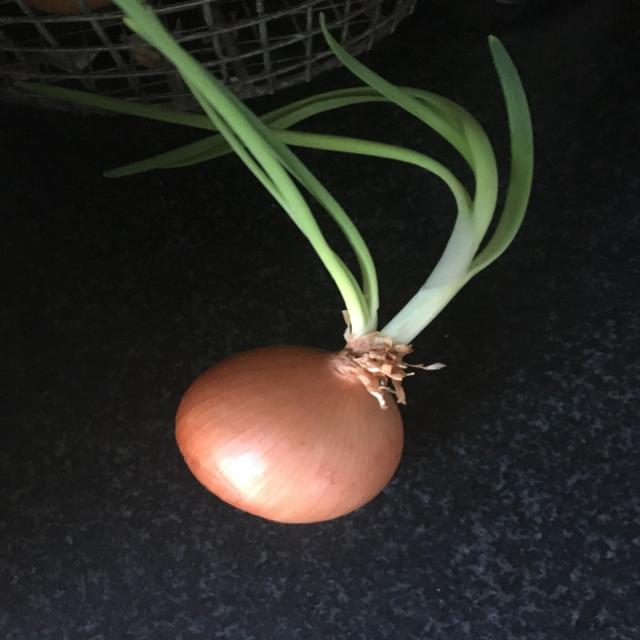sprouting: (116, 7, 544, 527)
